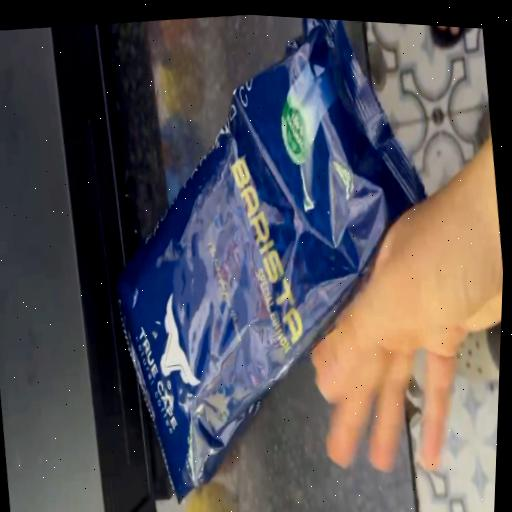cafe_hat: (119, 18, 424, 501)
